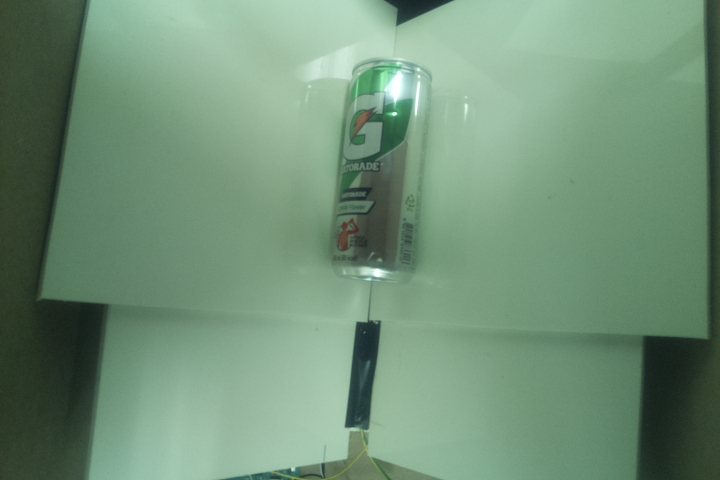can: (324, 48, 431, 287)
